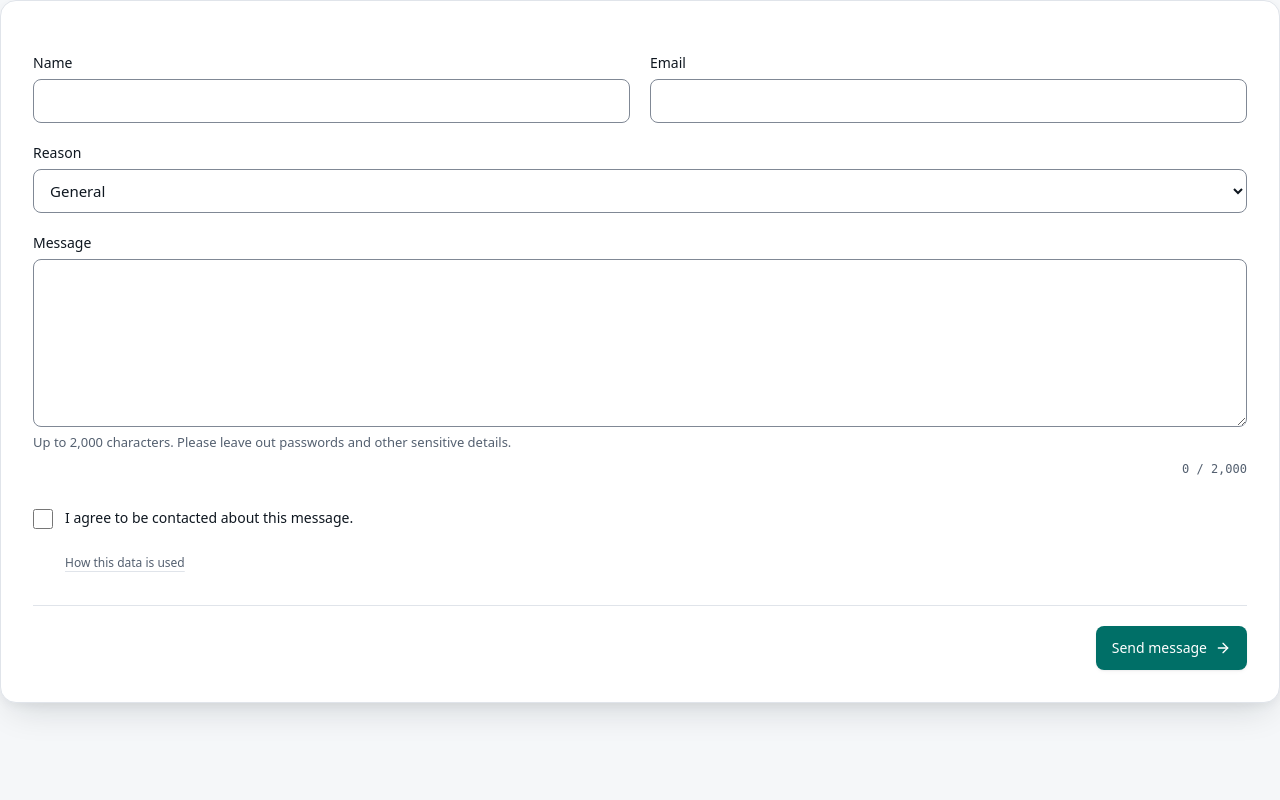
Scenario: contact form › maps server field errors, focuses the input, and keeps the message
Type "Sam" into the field labelled "Name" at (332, 101), box [33, 79, 630, 123]
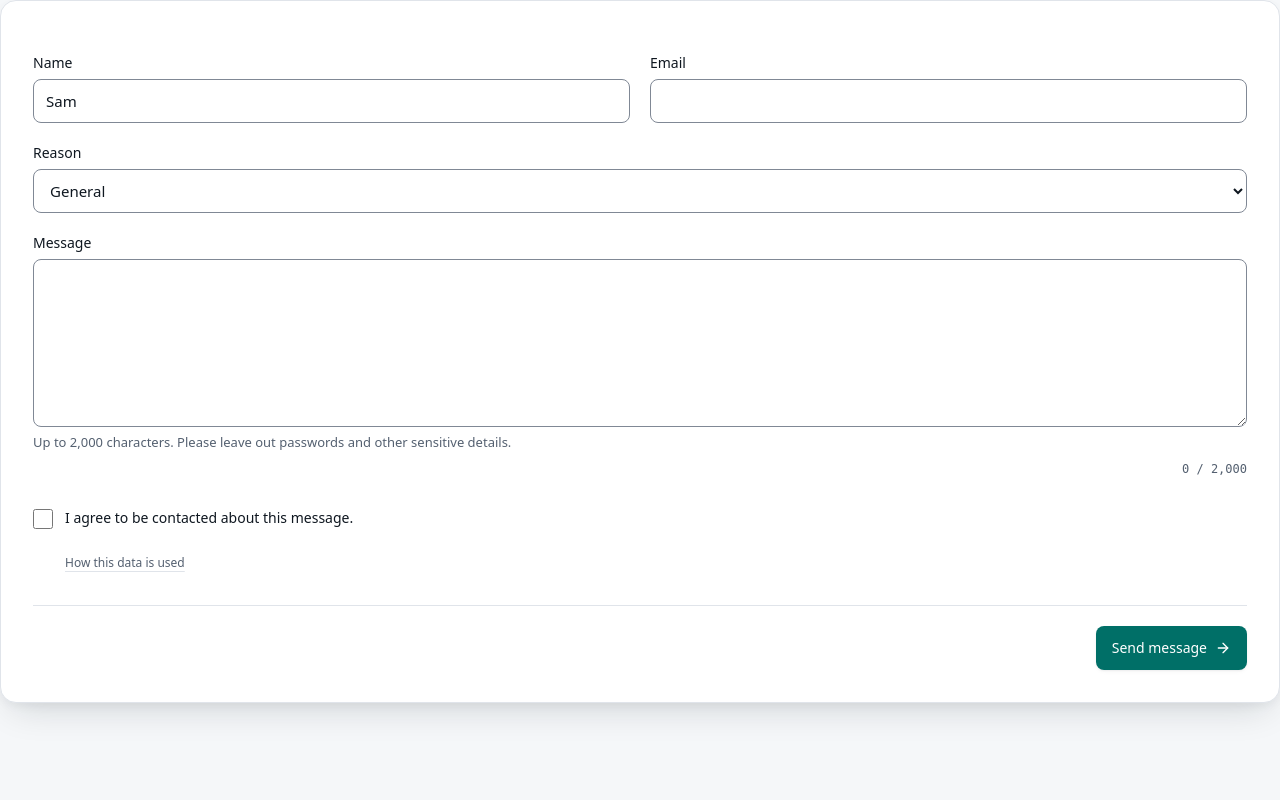
Type "sam@example.com" into the field labelled "Email" at (948, 101), box [650, 79, 1247, 123]
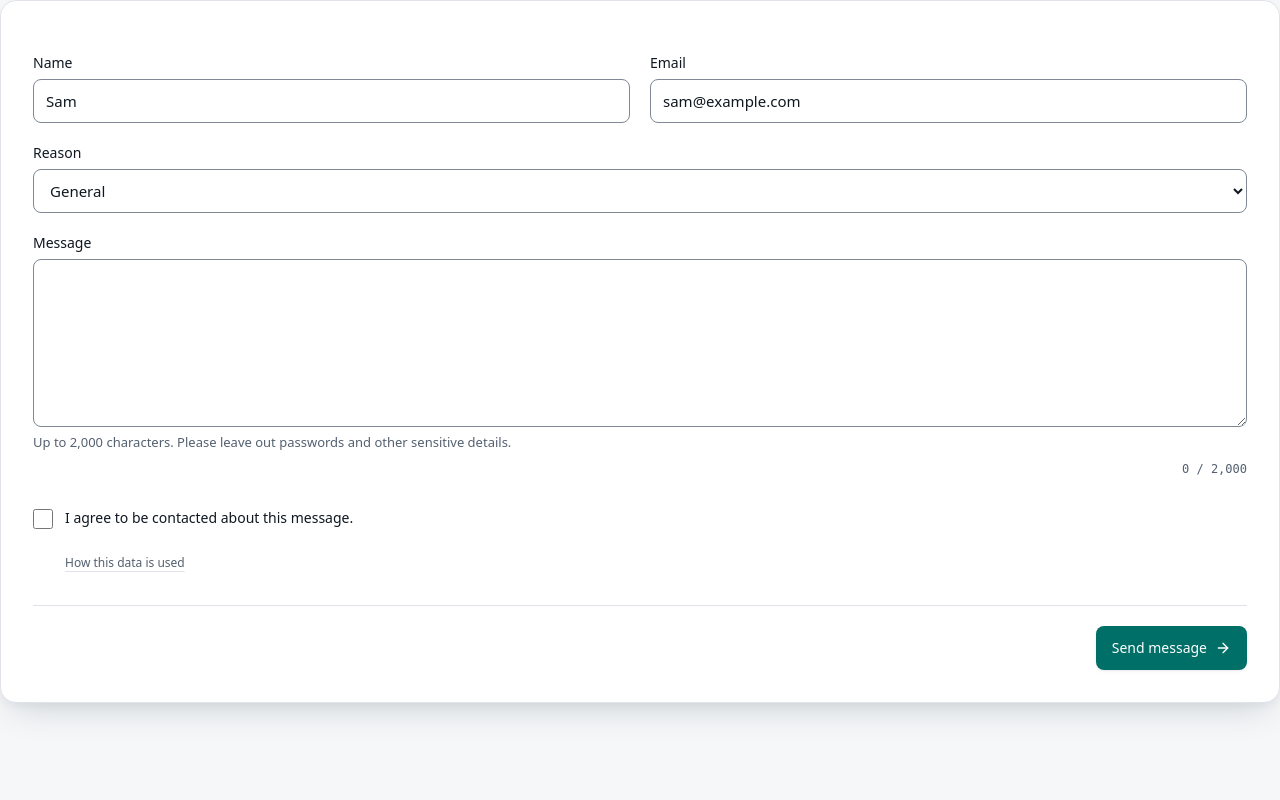
Select "Feedback" in the dropdown labelled "Reason" at (640, 191), box [33, 169, 1247, 213]
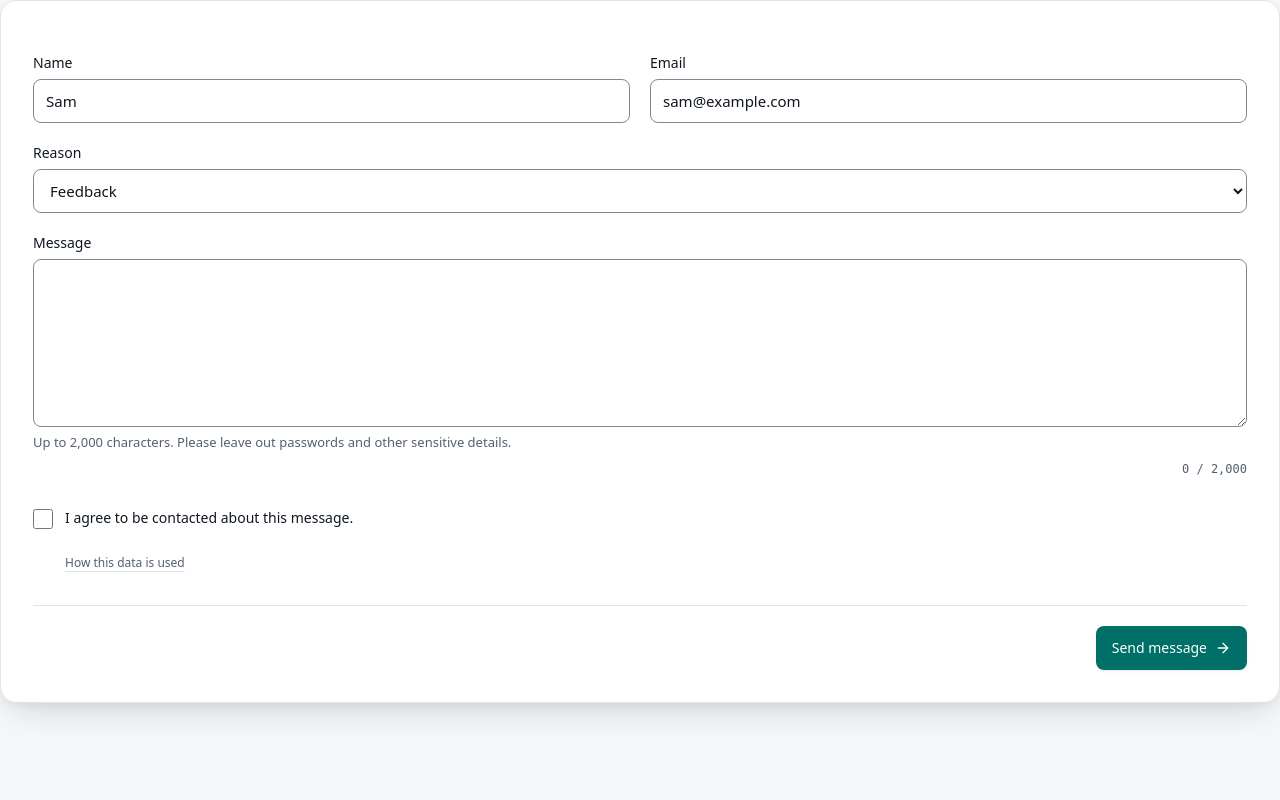
Type "Please add shared reviews." into the text box labelled "Message" at (640, 343), box [33, 259, 1247, 427]
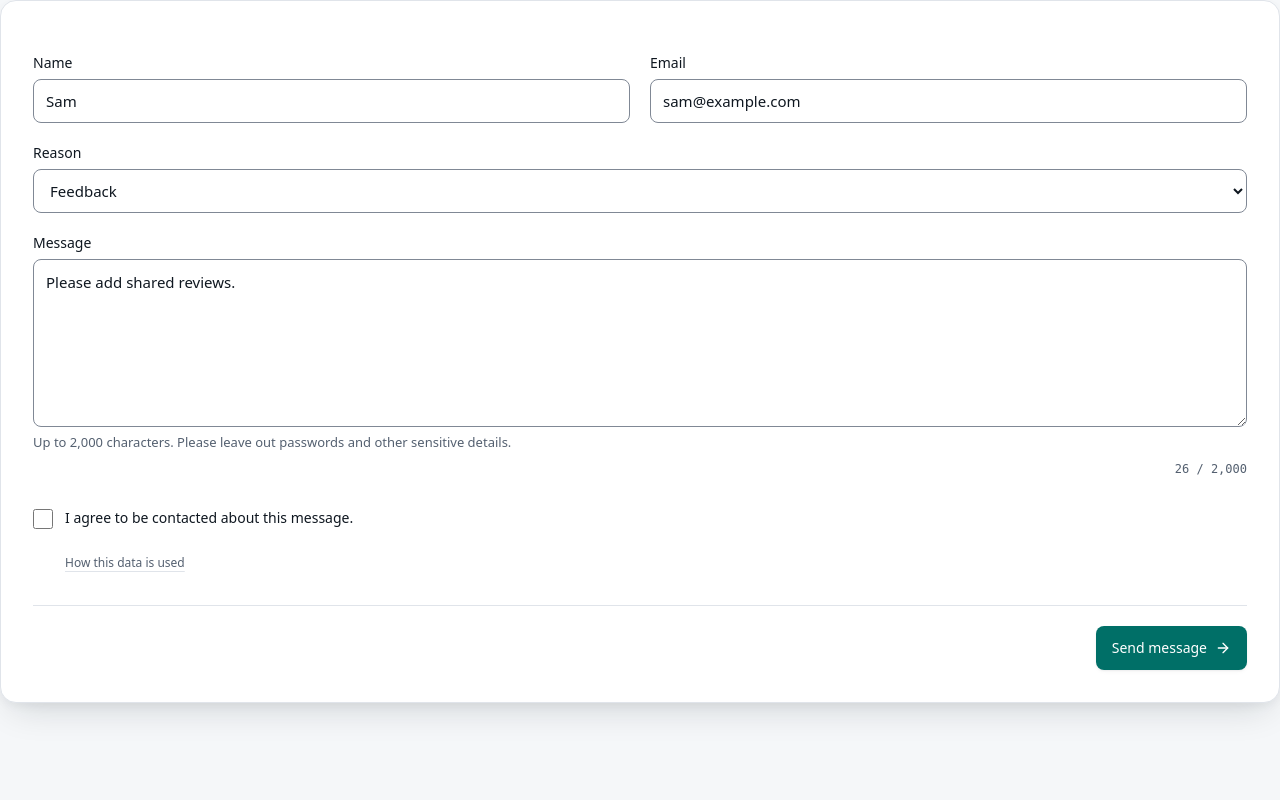
Click the checkbox at (43, 519), box [33, 509, 53, 529]
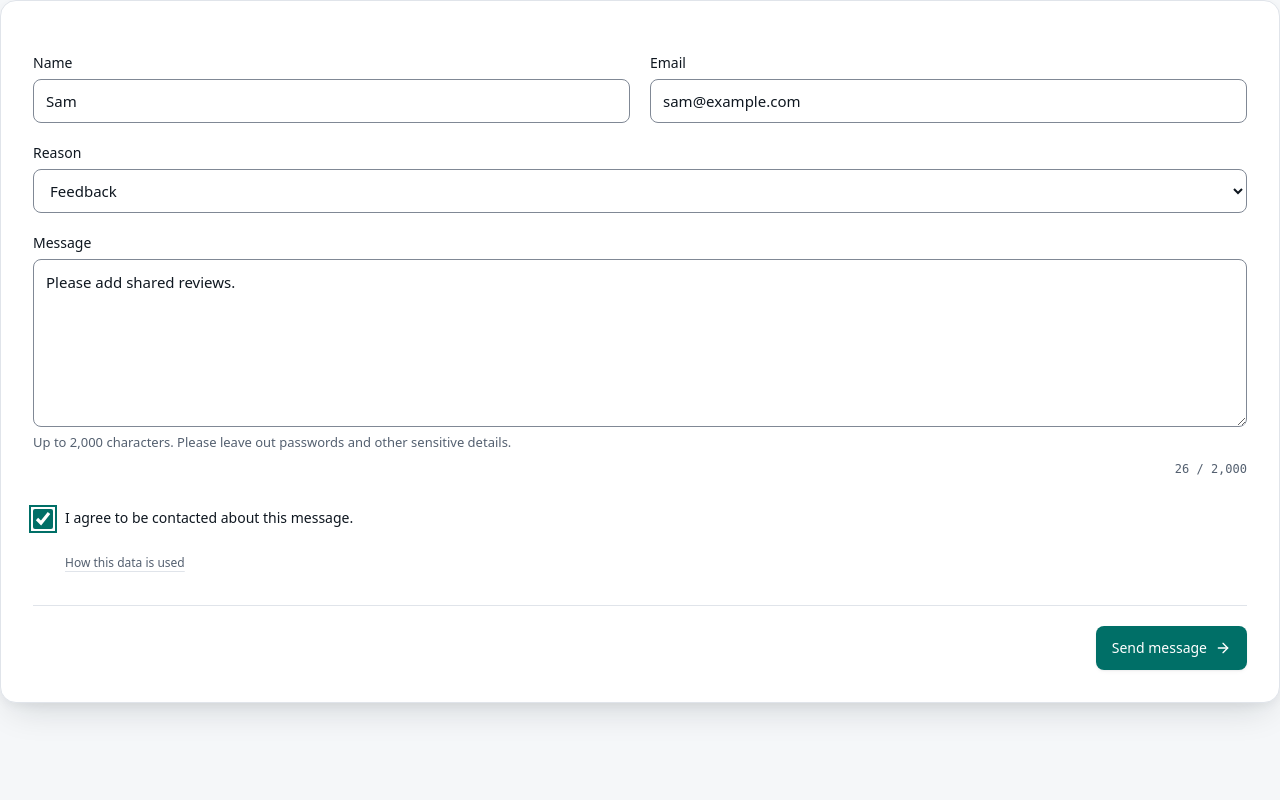
Click the button "Send message" at (1171, 648), box [1096, 626, 1247, 670]
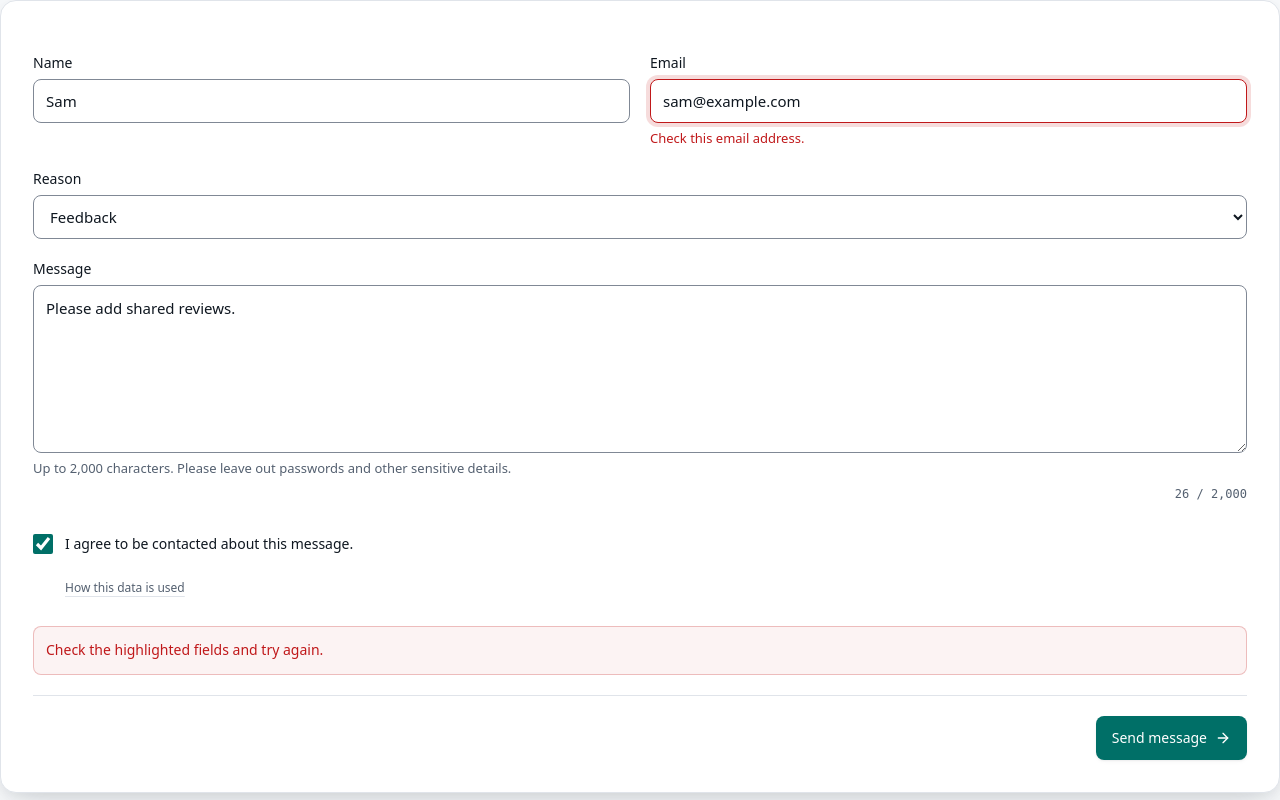
Result: the text "Check this email address." is shown at [650, 129, 804, 147]
